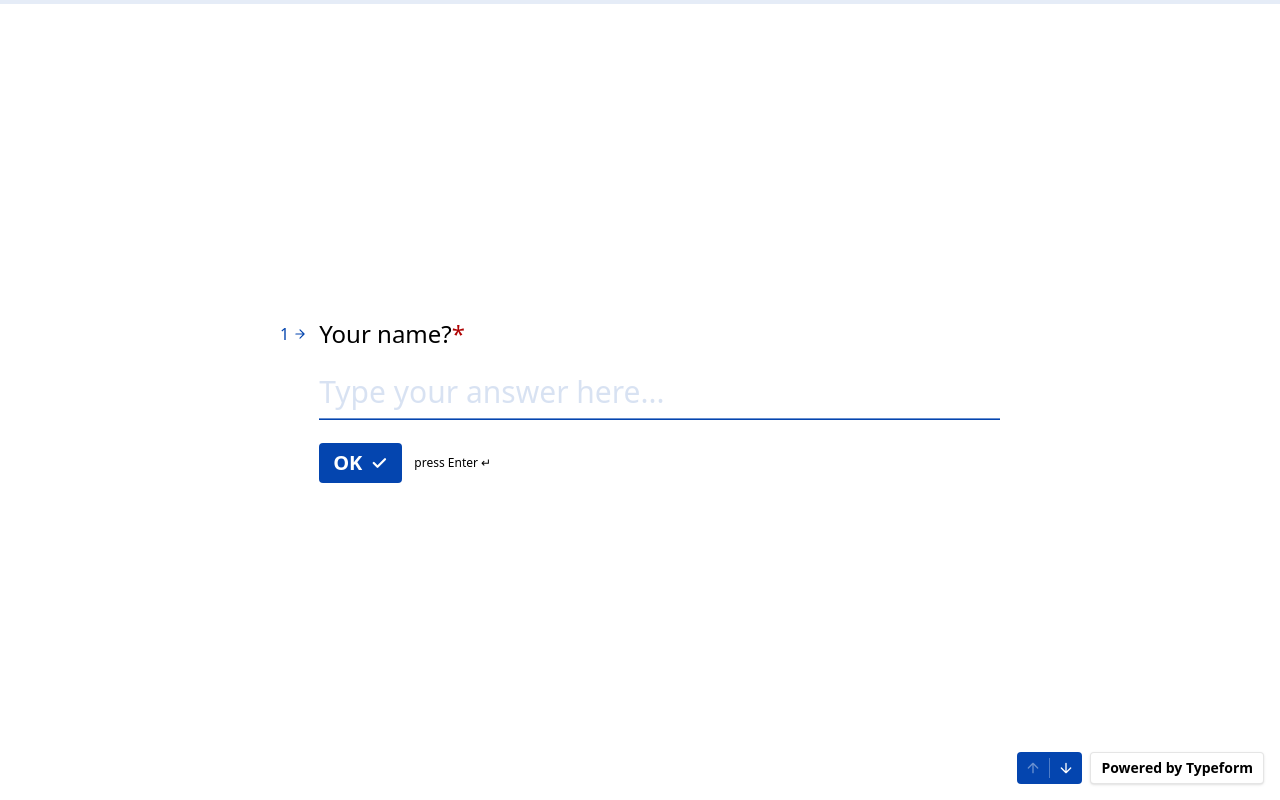
Test: Respondent › shows server validation errors on the failing question
The image size is (1280, 800).
Type "Sam" into the field with placeholder "Type your answer here..." at (660, 396), box [319,374,1000,418]
Then press Enter
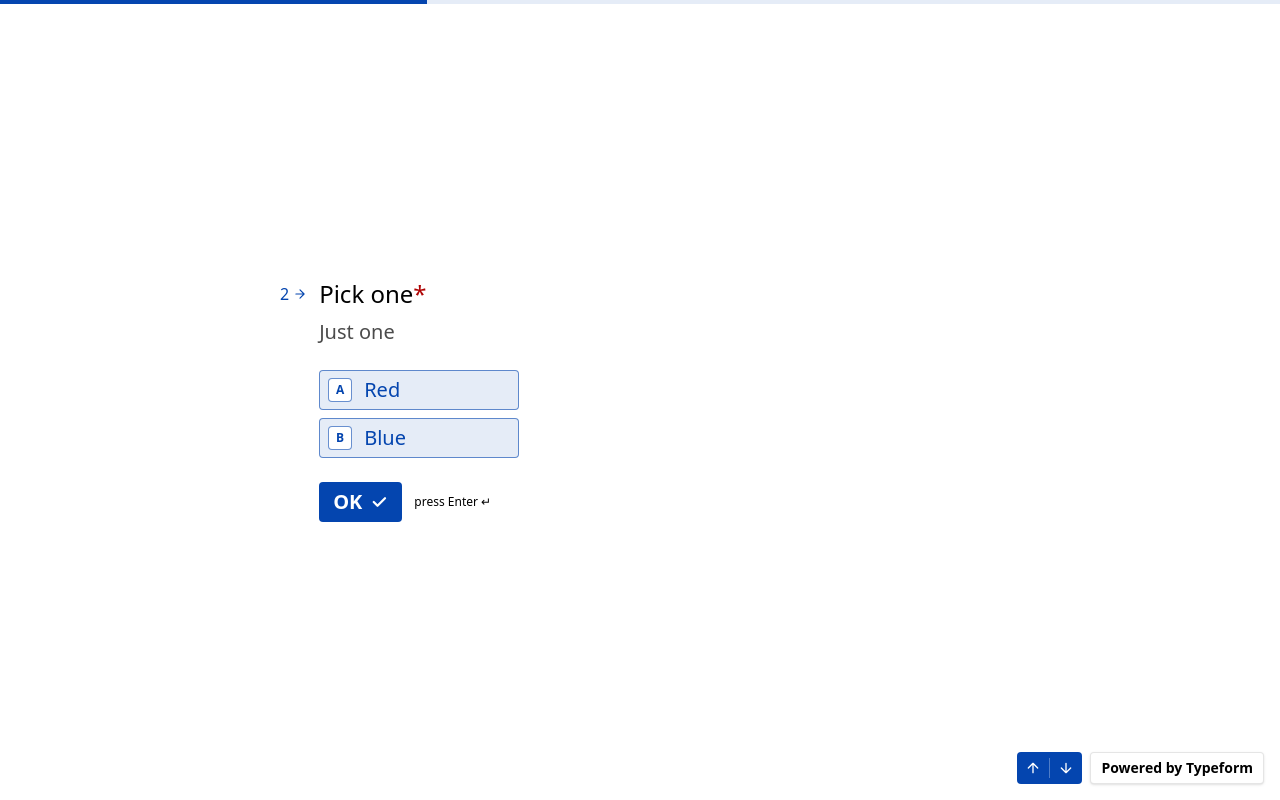
Click the button "A Red" at (419, 390), box [319,370,519,410]
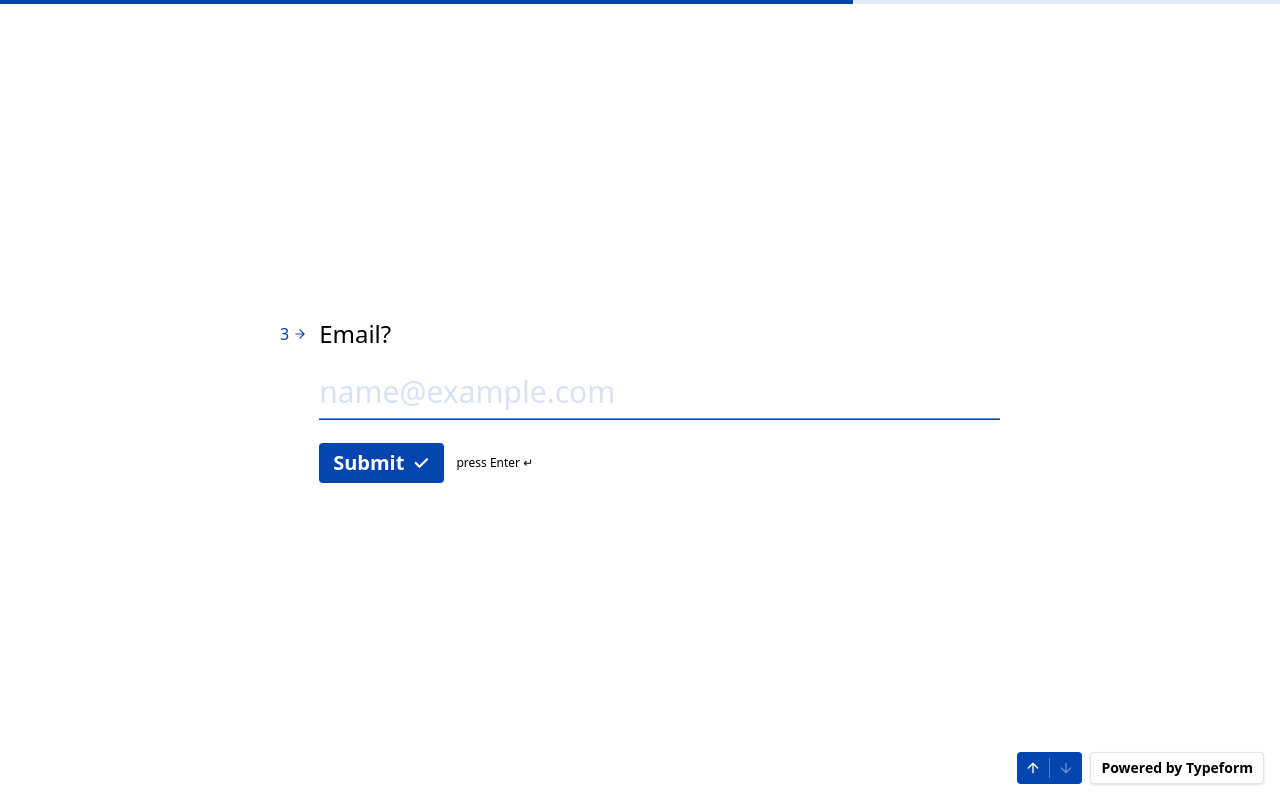
Click the button "Submit" at (382, 462), box [319,442,444,482]
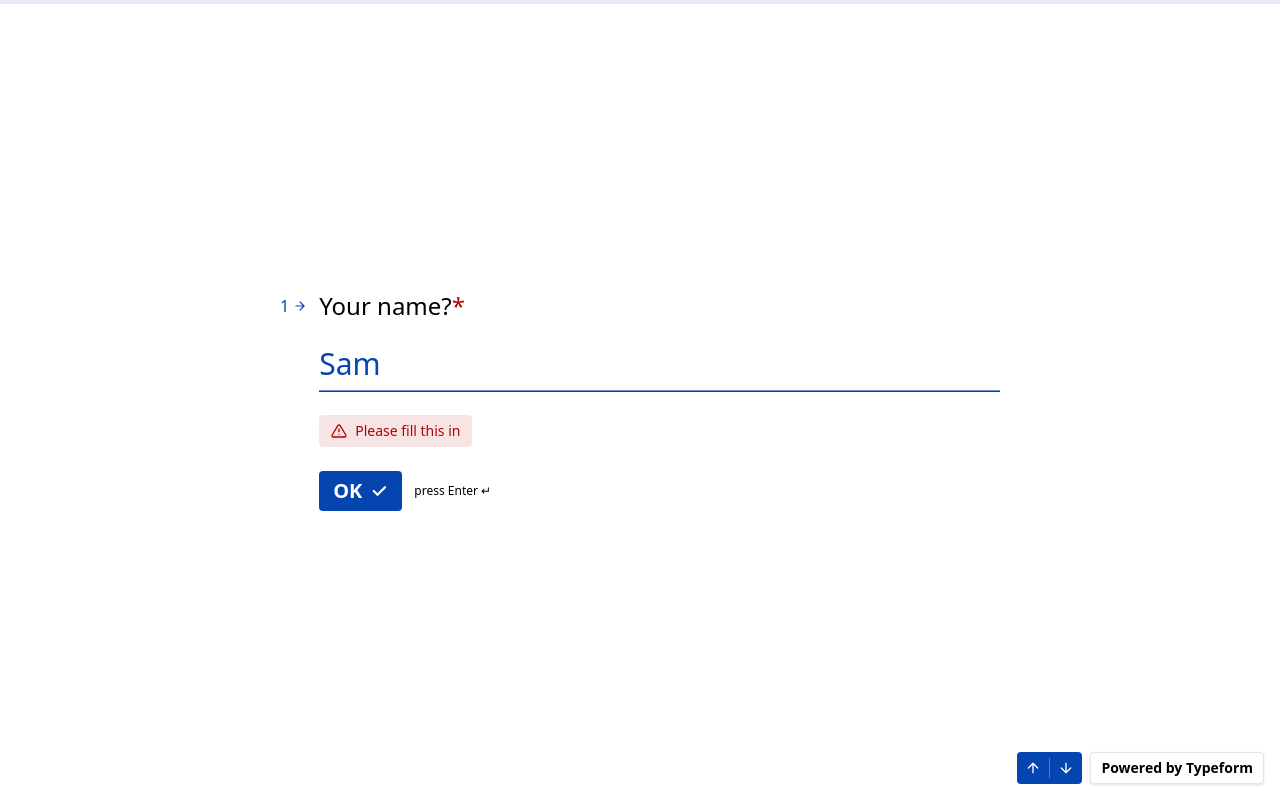
Now the heading "Your name?*" is shown, box [319,288,465,322]
Now the text "Please fill this in" is shown, box [319,414,472,446]
